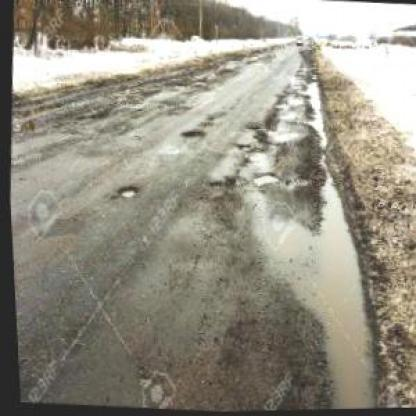pothole: (250, 172, 280, 189), (114, 183, 136, 201), (177, 128, 204, 140), (235, 143, 250, 152)
